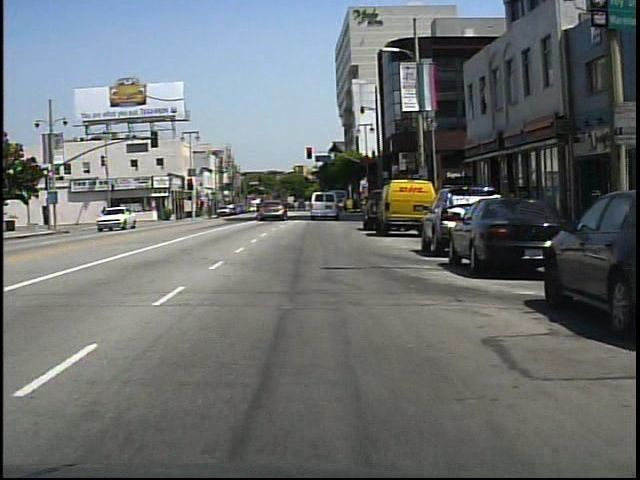person: (253, 193, 270, 222), (99, 202, 114, 230)
